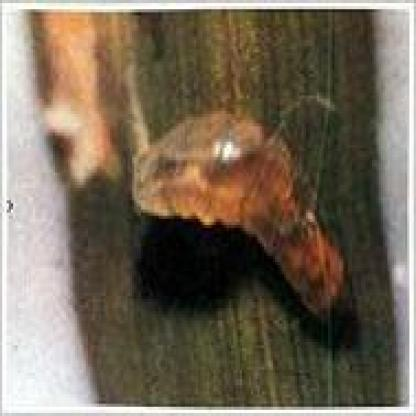whorl-maggot: (129, 112, 348, 330)
